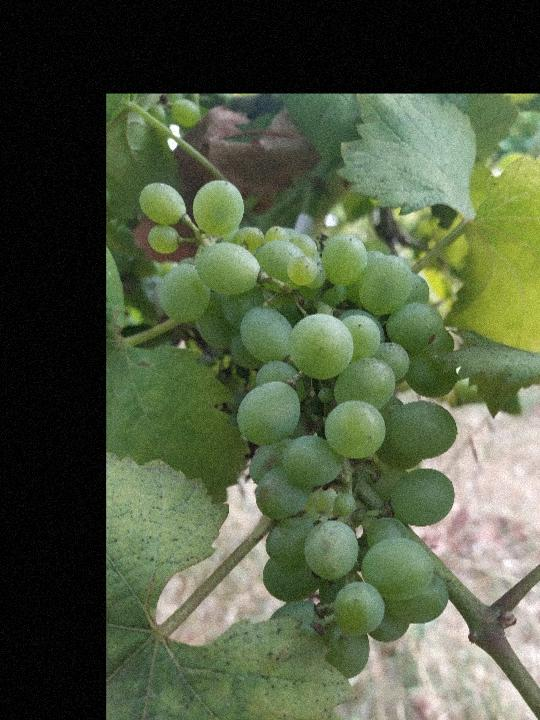grape: (136, 179, 462, 682)
